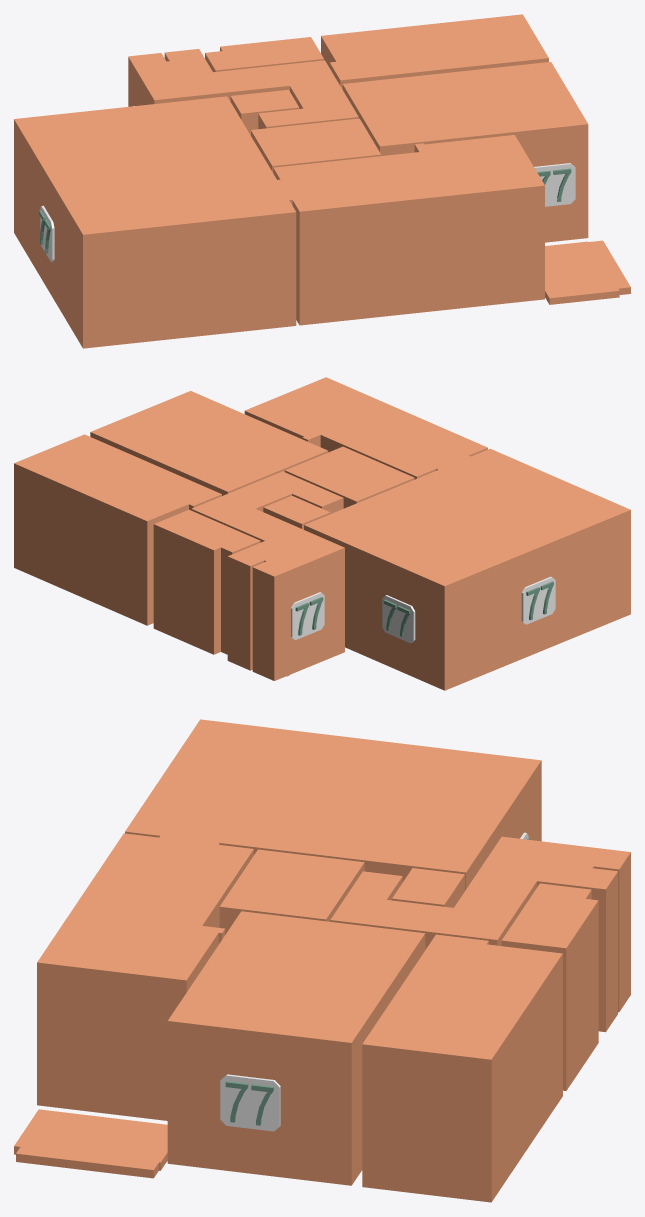
The picture shows the model from 3 angles, top to bottom: view 1: azimuth 30°, elevation 25°; view 2: azimuth 150°, elevation 25°; view 3: azimuth 270°, elevation 25°; orthographic projection. The views are drawn at different scales.
Visible parts, largest first — view 1: g_7, g_6, g_0, g_1, g_3, g_4, g_8, g_2, g_5, g_20; view 2: g_7, g_1, g_3, g_0, g_6, g_2, g_4, g_5, g_23, g_17, g_11; view 3: g_0, g_7, g_1, g_6, g_3, g_2, g_8, g_4, g_14, g_5.
Part boxes in pixels (box(x1,y1,x2,y2)): g_7: box(14, 96, 296, 348); g_6: box(273, 135, 544, 325); g_0: box(342, 62, 588, 242); g_1: box(321, 14, 548, 89); g_3: box(128, 49, 358, 129); g_4: box(251, 118, 381, 172); g_8: box(545, 240, 630, 304); g_2: box(205, 37, 323, 72); g_5: box(230, 90, 299, 135); g_20: box(534, 163, 575, 206); g_7: box(304, 448, 630, 690); g_1: box(14, 434, 221, 625); g_3: box(191, 471, 344, 680); g_0: box(90, 391, 328, 495); g_6: box(244, 377, 487, 479); g_2: box(153, 509, 260, 654); g_4: box(285, 446, 414, 508); g_5: box(263, 495, 330, 529); g_23: box(382, 595, 415, 643); g_17: box(521, 576, 555, 624); g_11: box(291, 592, 324, 639); g_0: box(167, 911, 425, 1185); g_7: box(125, 719, 541, 890); g_1: box(362, 934, 562, 1202); g_6: box(37, 833, 253, 1120); g_3: box(330, 836, 630, 1032); g_2: box(501, 883, 598, 1090); g_8: box(14, 1109, 167, 1178); g_4: box(219, 849, 364, 934); g_14: box(220, 1074, 280, 1131); g_5: box(392, 868, 464, 907).
Bounding box in the file's own units: 13.16 × 2.74 × 10.08.
